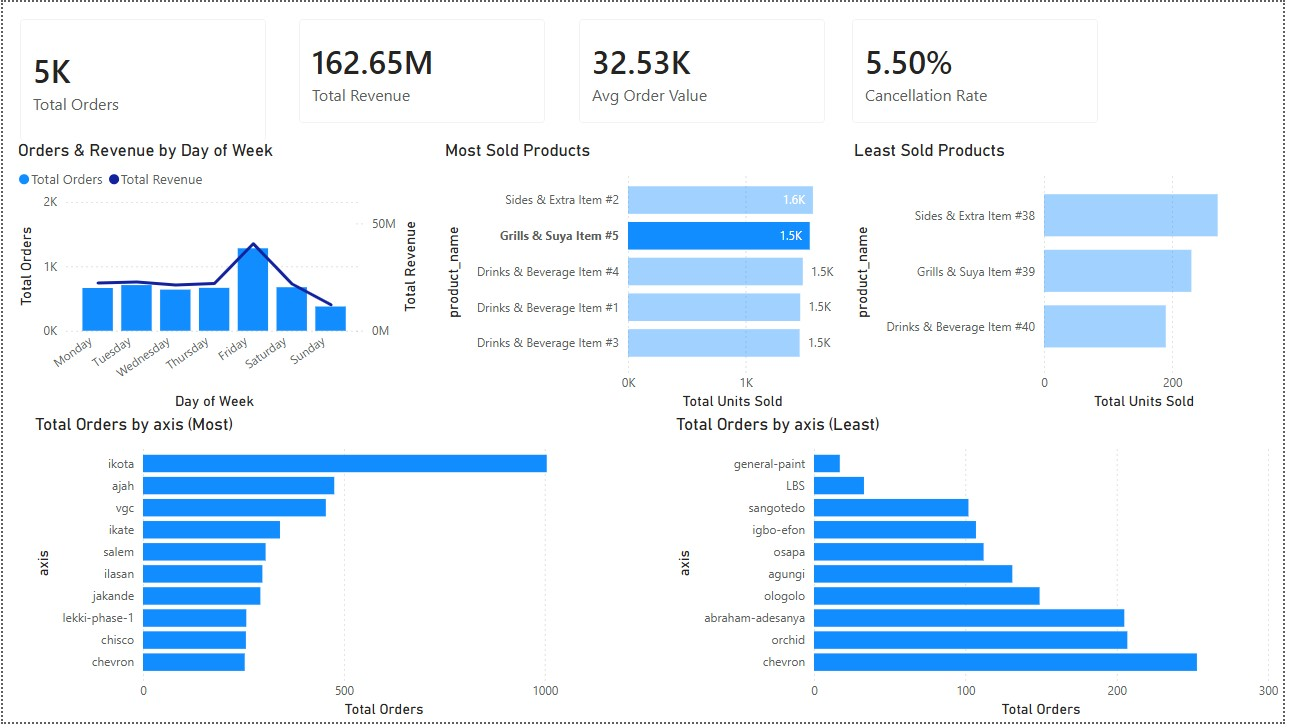

What the dashboard file says about the page in this screenshot:
{"tool":"powerbi","page":{"name":"Overview","canvas":[1280,720],"ordinal":0},"visuals":[{"type":"cardVisual","fields":{"Data":["orders.Total Orders"]},"box":[0,0,280,155.6],"z":0},{"type":"cardVisual","fields":{"Data":["orders.Total Revenue"]},"box":[279.1,0,280.1,138.1],"z":1000},{"type":"cardVisual","fields":{"Data":["orders.Avg Order Value"]},"box":[559.3,0,280.1,138.1],"z":2000},{"type":"cardVisual","fields":{"Data":["orders.Cancellation Rate"]},"box":[831.6,0,280.1,138.1],"z":3000},{"type":"lineClusteredColumnComboChart","title":"Orders & Revenue by Day of Week","fields":{"Category":["orders.Day of Week"],"Y":["orders.Total Orders"],"Y2":["orders.Total Revenue"]},"box":[9.7,138.1,409.5,274.3],"z":4000},{"type":"clusteredBarChart","title":"Most Sold Products","fields":{"Category":["products.product_name"],"Y":["order_items.Total Units Sold"]},"box":[436.7,138.1,409.5,274.3],"z":5000},{"type":"clusteredBarChart","title":"Least Sold Products","fields":{"Category":["products.product_name"],"Y":["order_items.Total Units Sold"]},"box":[846.2,138.1,409.5,274.3],"z":6000},{"type":"clusteredBarChart","title":"Total Orders by axis (Most)","fields":{"Category":["orders.axis"],"Y":["orders.Total Orders"]},"box":[27.2,412.4,612.8,307.4],"z":7000},{"type":"clusteredBarChart","title":"Total Orders by axis (Least)","fields":{"Category":["orders.axis"],"Y":["orders.Total Orders"]},"box":[667.8,412.2,612.2,307.8],"z":8000}]}

Visuals, with their boxes in screenshot pixels (x1, y1, x2, y2), scaled from the page's 1280x720 canvas onto the 1289x728 screenshot:
cardVisual - orders.Total Orders: 0 0 282 157
cardVisual - orders.Total Revenue: 281 0 563 140
cardVisual - orders.Avg Order Value: 563 0 845 140
cardVisual - orders.Cancellation Rate: 837 0 1120 140
"Orders & Revenue by Day of Week" lineClusteredColumnComboChart: 10 140 422 417
"Most Sold Products" clusteredBarChart: 440 140 852 417
"Least Sold Products" clusteredBarChart: 852 140 1265 417
"Total Orders by axis (Most)" clusteredBarChart: 27 417 644 727
"Total Orders by axis (Least)" clusteredBarChart: 672 417 1288 727
